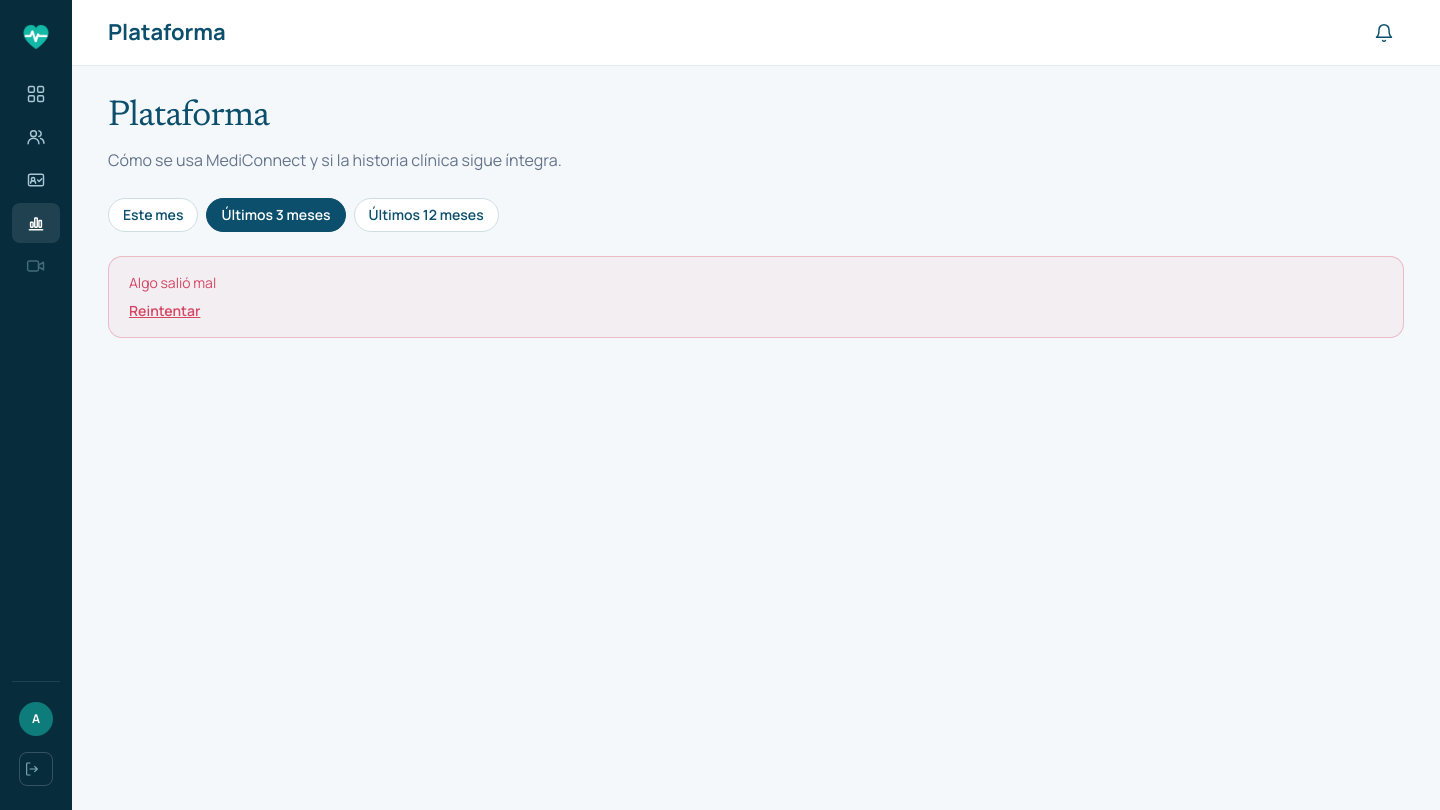
Scenario: Plataforma › si falla, avisa y deja reintentar
Click the button "Reintentar".
click(165, 311)  # box x1=129 y1=301 x2=200 y2=321
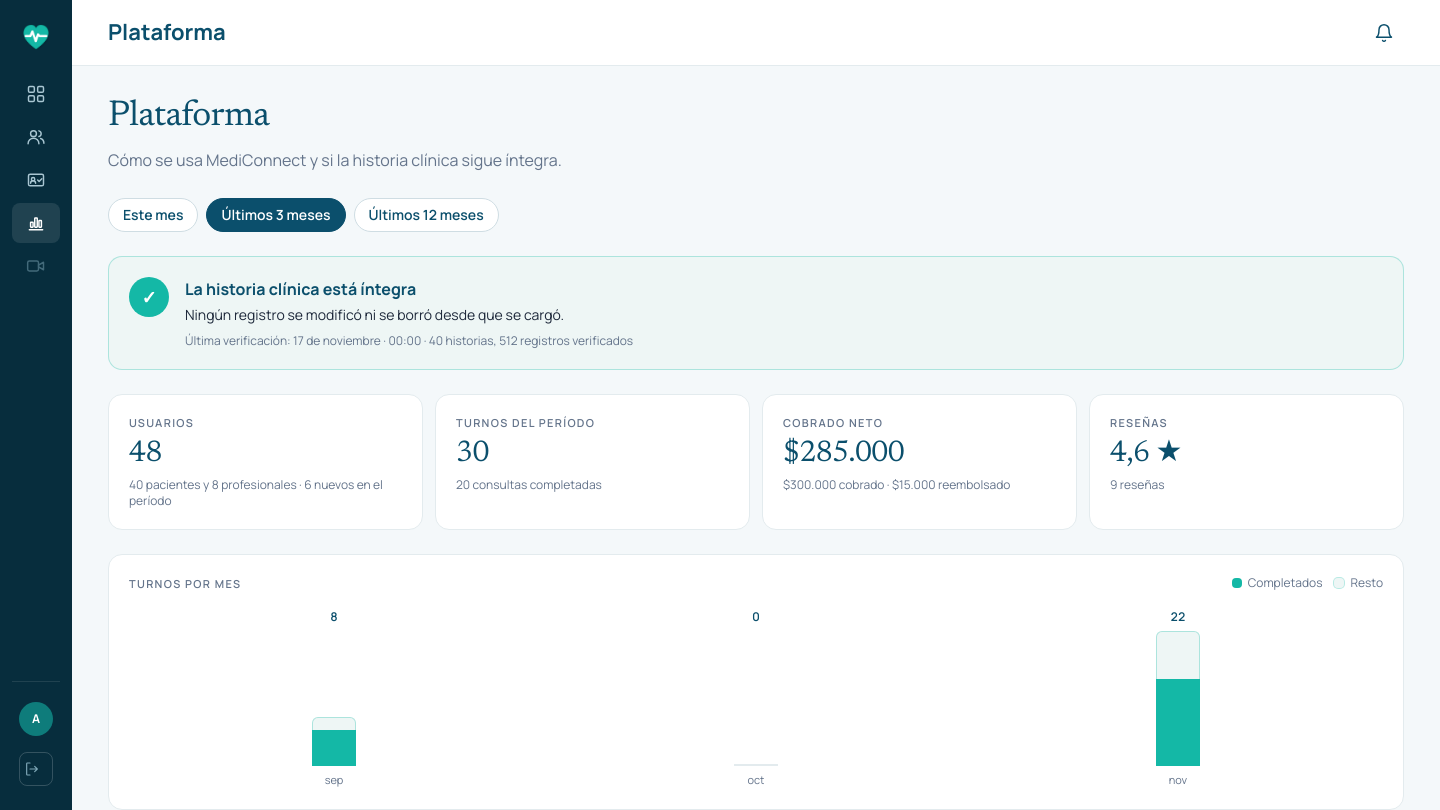
Expected: the element "Usuarios" is shown, x1=108 y1=394 x2=423 y2=530
